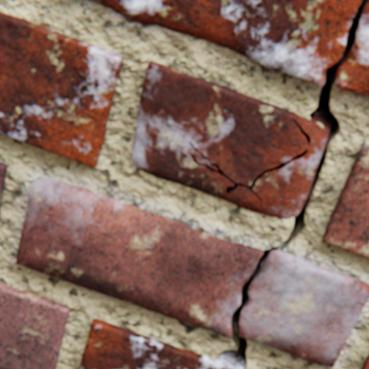brick: (133, 63, 326, 219), (0, 12, 123, 167), (81, 319, 243, 368), (0, 283, 70, 368), (322, 139, 368, 257), (0, 162, 8, 221), (361, 353, 368, 368)
broken_brick: (17, 179, 263, 337), (88, 0, 361, 87), (239, 251, 368, 367), (335, 2, 368, 97)
crack: (218, 0, 368, 368), (188, 142, 307, 201), (293, 120, 309, 144)
